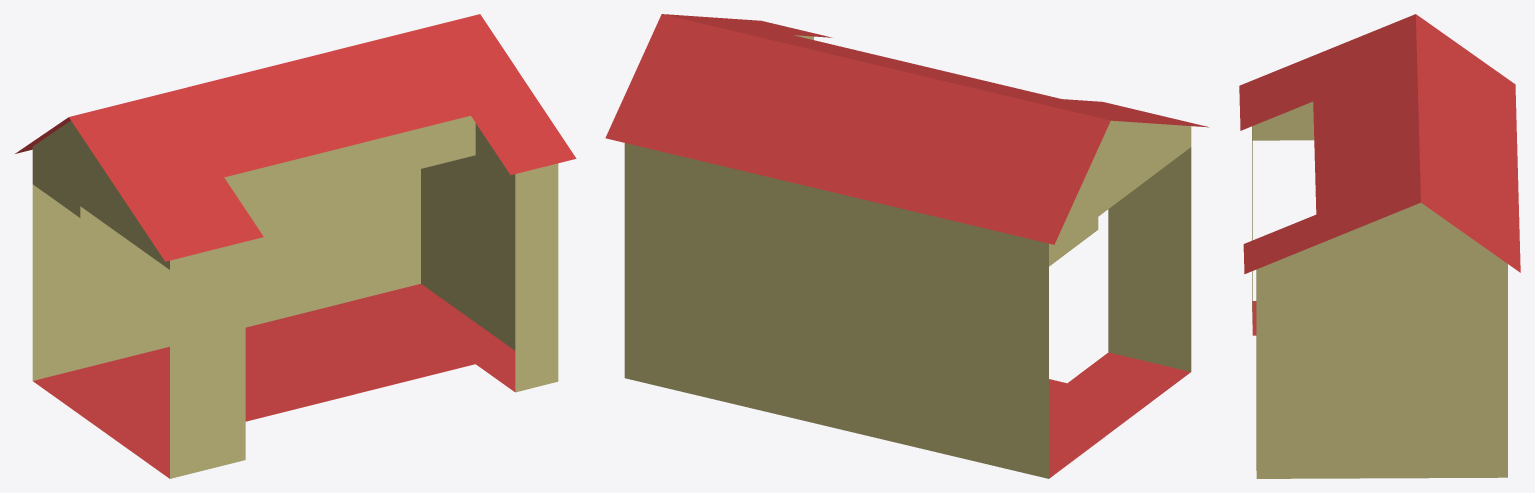
3 renders of one model, left to right at view 1: azimuth 30°, elevation 25°; view 2: azimuth 150°, elevation 25°; view 3: azimuth 270°, elevation 25°, orthographic. The views are drawn at different scales.
Bounding box in the file's own units: 18.11 × 11.34 × 12.49.
